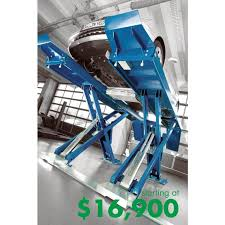Scissor Lift: (38, 10, 182, 196)
